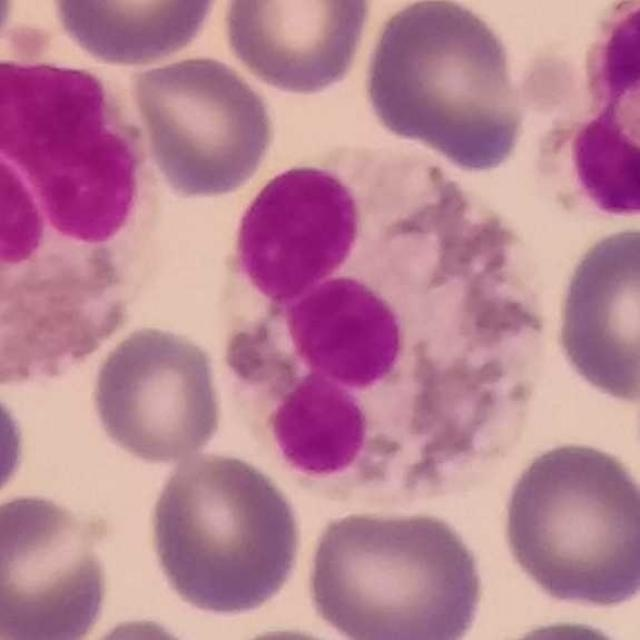Eosinophil: (221, 154, 548, 503), (0, 51, 163, 402), (564, 1, 640, 230)
RBC: (358, 0, 529, 173), (143, 447, 306, 620), (496, 436, 640, 614), (302, 503, 489, 639), (126, 52, 278, 200), (86, 321, 227, 466), (0, 487, 118, 640), (551, 220, 640, 407), (217, 0, 374, 98), (47, 0, 226, 68), (0, 376, 30, 516), (505, 614, 624, 640), (90, 612, 191, 640)
